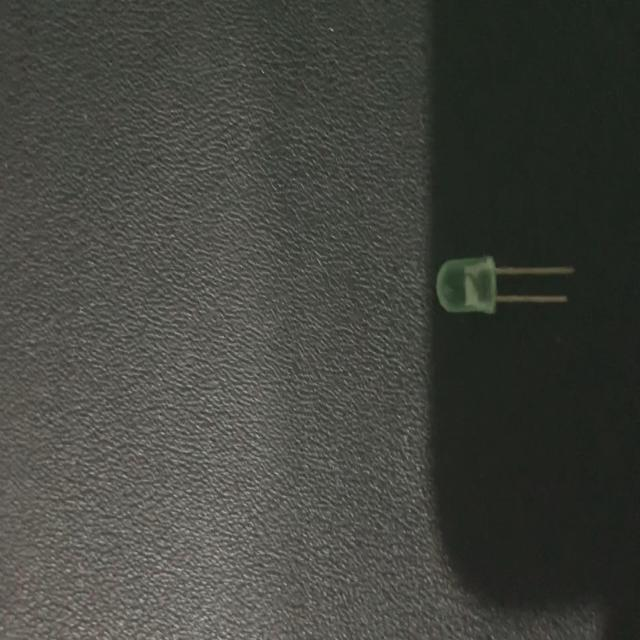LED: (434, 253, 576, 316)
